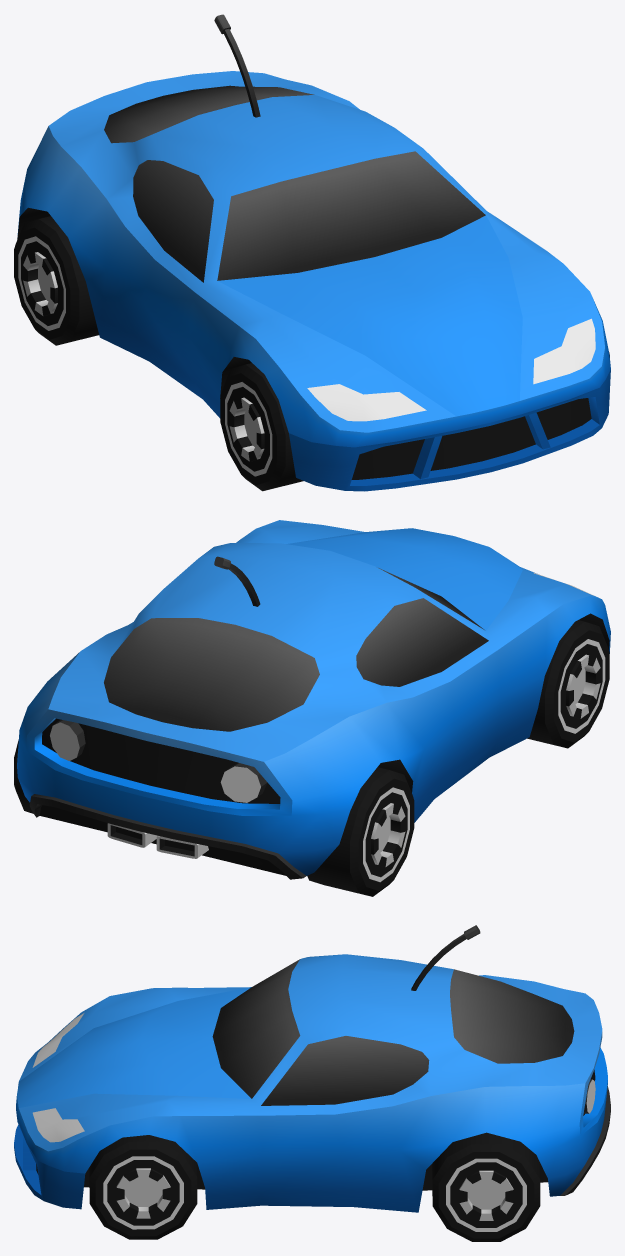
The model's file is car3(galileo3).fbx.
The picture shows the model from 3 angles, top to bottom: view 1: azimuth 30°, elevation 25°; view 2: azimuth 150°, elevation 25°; view 3: azimuth 270°, elevation 25°; orthographic projection. The views are drawn at different scales.
Visible parts, largest first — view 1: galileo.002, galileotire.011, galileotire.009; view 2: galileo.002, galileotire.011, galileotire.009; view 3: galileo.002, galileotire.010, galileotire.008.
Boxes of the visible parts, x1,y1,x2,y2 form: galileo.002: (17,14,610,491); galileotire.011: (14,216,98,345); galileotire.009: (220,363,303,491); galileo.002: (17,520,610,879); galileotire.011: (307,767,414,896); galileotire.009: (527,620,609,748); galileo.002: (14,925,610,1212); galileotire.010: (432,1132,540,1241); galileotire.008: (89,1135,197,1239).
Size of the model in its own units: 203 by 159 by 350.
